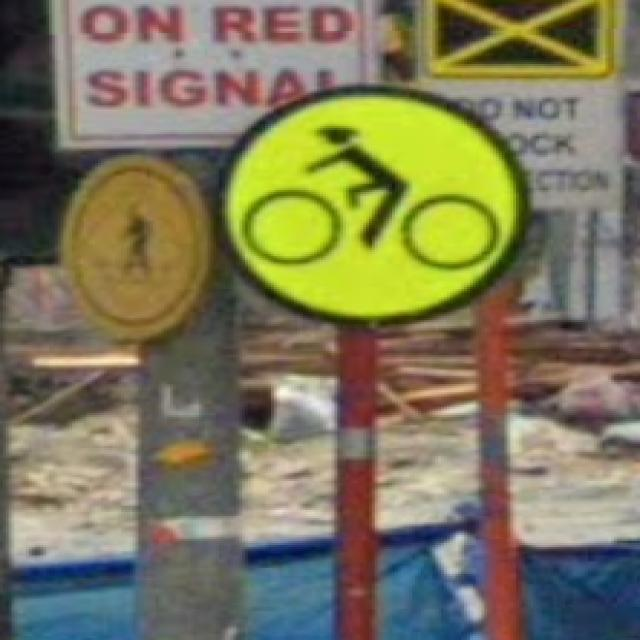bike lane: (213, 83, 525, 324)
